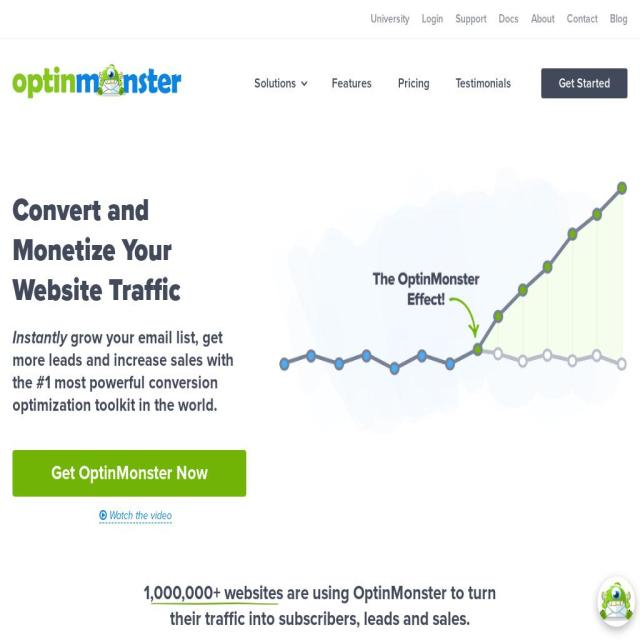button: (12, 450, 246, 497), (542, 68, 628, 98), (99, 508, 172, 524)
heading: (12, 190, 258, 310), (170, 581, 496, 631), (144, 580, 283, 606)
iframe: (587, 494, 640, 640)
image: (264, 161, 628, 437), (12, 64, 182, 98)
link: (456, 75, 511, 92), (254, 75, 296, 92), (332, 75, 372, 92), (370, 12, 410, 26), (398, 75, 429, 92), (456, 12, 486, 26), (567, 12, 597, 26), (532, 12, 554, 26), (422, 12, 443, 26), (499, 12, 519, 26), (610, 12, 628, 26)
text: (12, 326, 234, 416), (12, 327, 67, 348), (106, 509, 172, 522)
